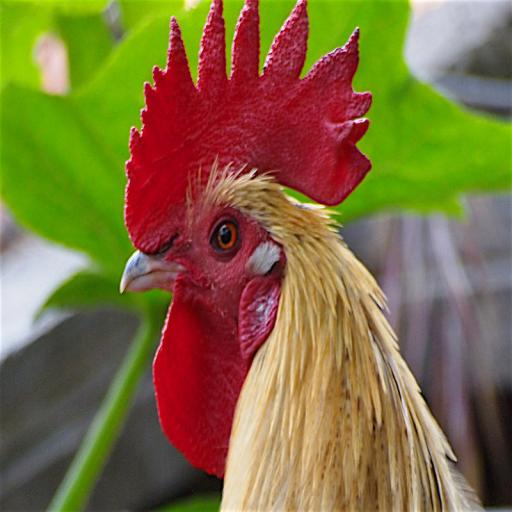healthy: (132, 9, 368, 418)
